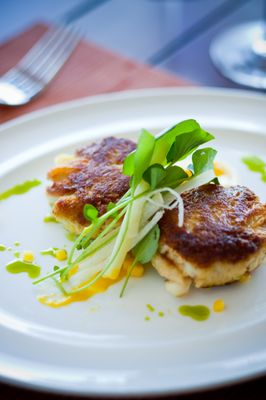burger: (0, 20, 86, 107)
